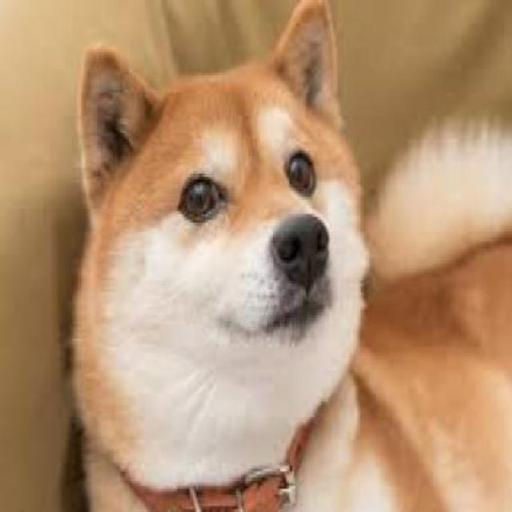Dog: (77, 61, 505, 509)
